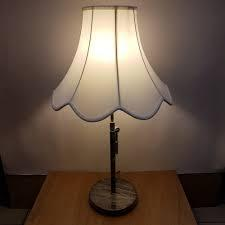Lamp: (45, 3, 178, 217)
